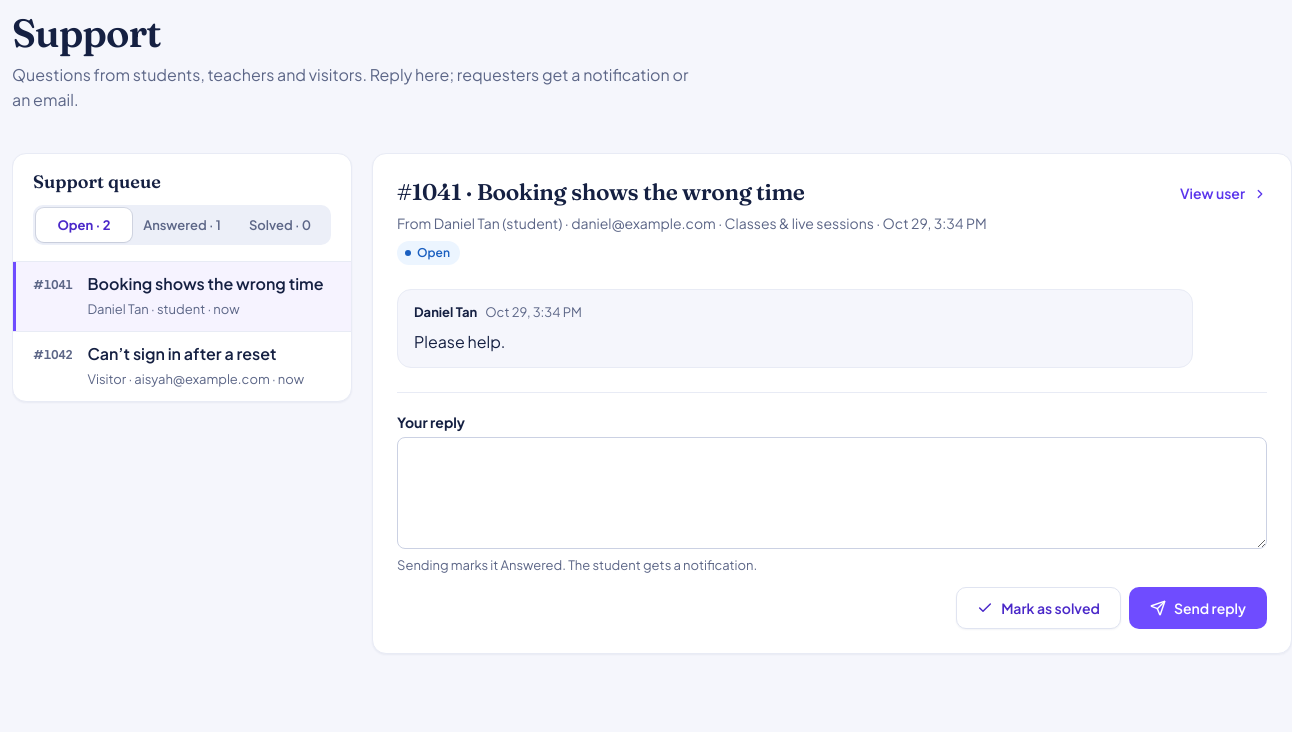
Test: AdminSupportPage › shows the queue by status with the counts on the tabs and opens the oldest request
Expected: the button with test id "admin-support-tab-open" reads "Open · 2", [36, 208, 132, 242]
Expected: the button with test id "admin-support-tab-answered" reads "Answered · 1", [134, 208, 230, 242]
Click the button with test id "admin-support-tab-solved": click(280, 225) [232, 208, 328, 242]
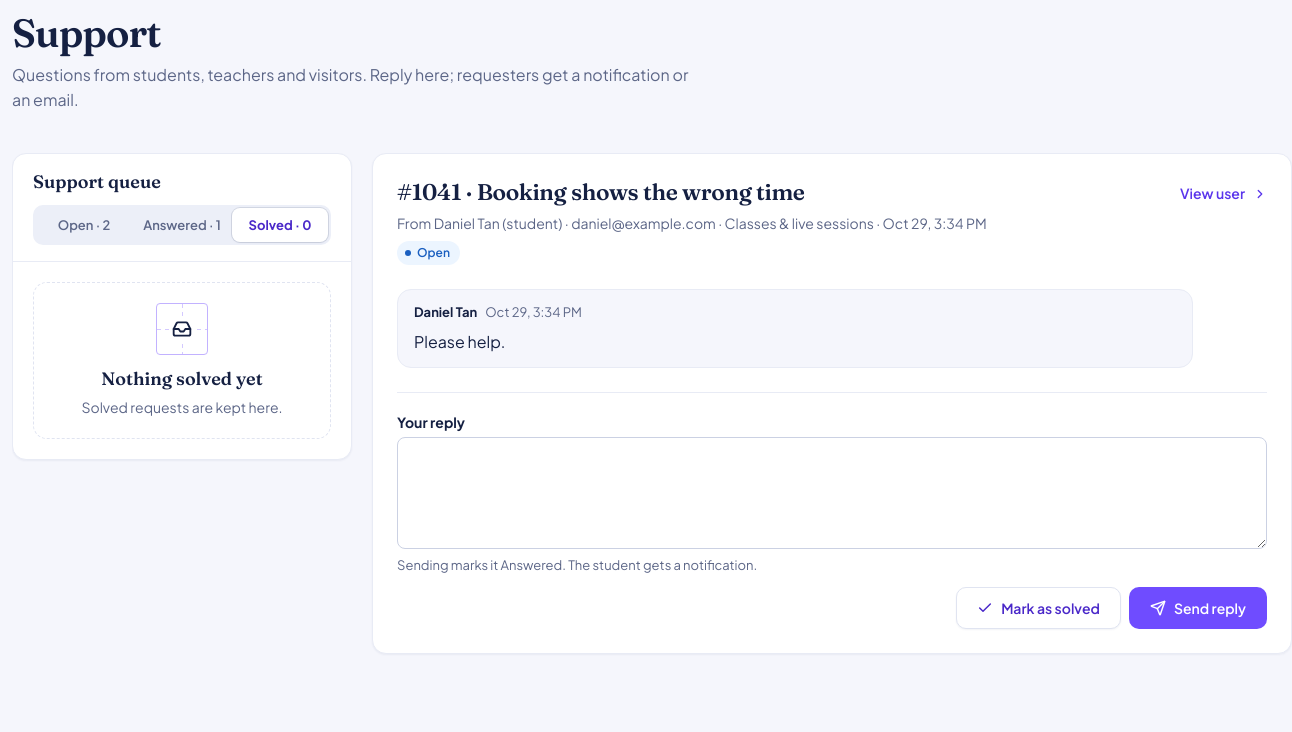
Expected: the text "Nothing solved yet" is shown, [101, 367, 263, 391]
